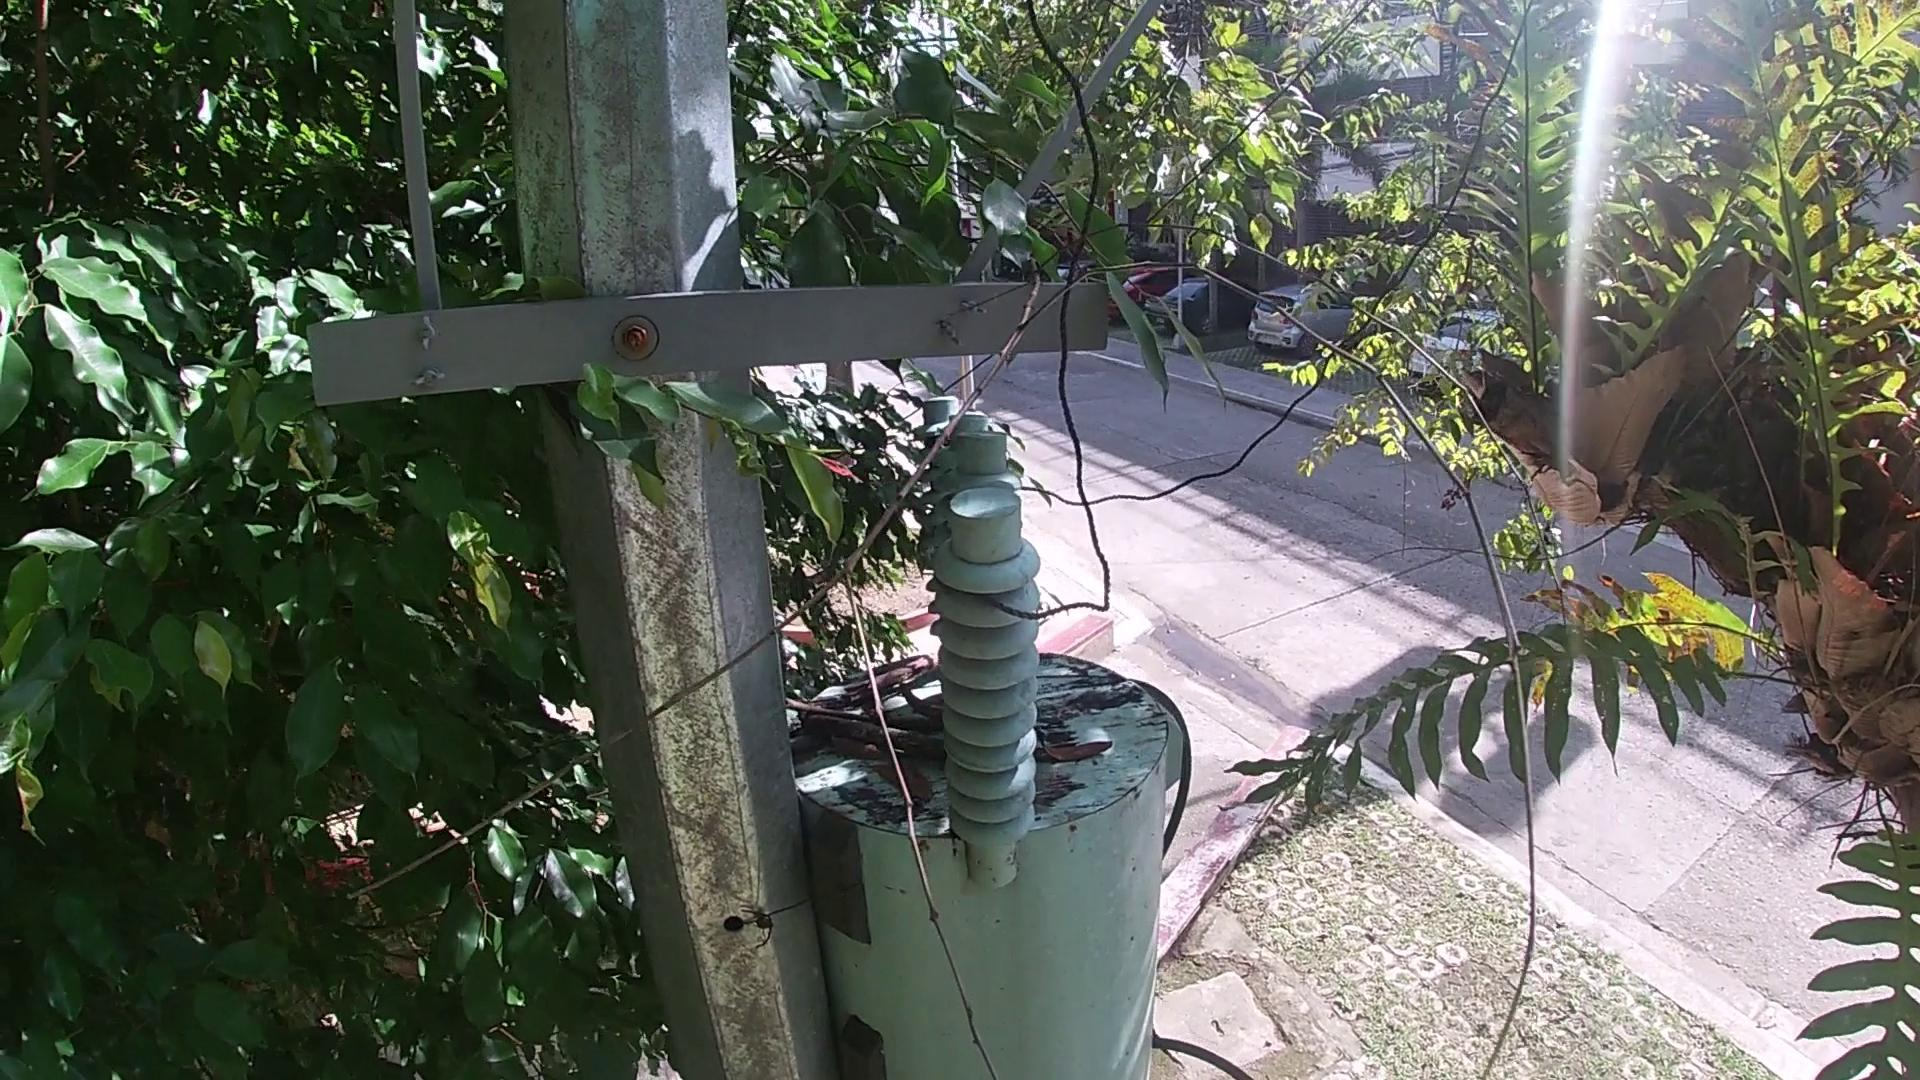leaf: (872, 764, 940, 814), (820, 742, 884, 764)
mahogany fruit: (1036, 733, 1116, 770), (899, 688, 953, 713)
tree branch: (559, 258, 1588, 1077), (822, 642, 938, 709), (800, 720, 945, 752), (765, 696, 881, 723)
